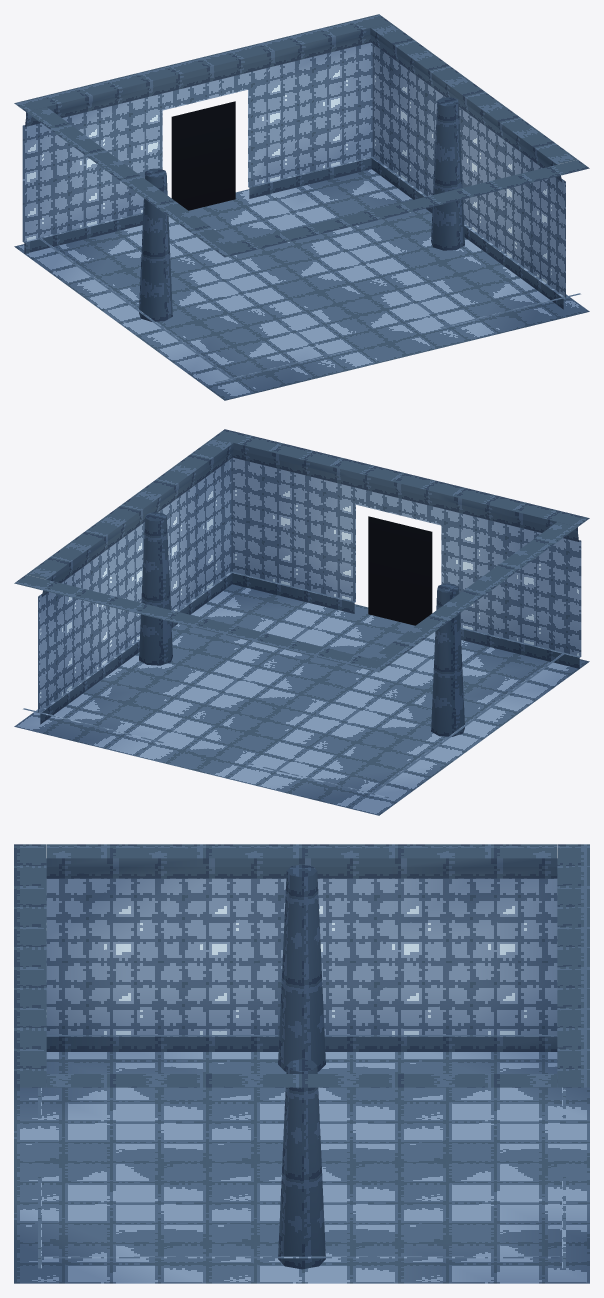
File: cyroom.lobby.glb
3 views of the same model, one above another, from view 1: azimuth 30°, elevation 25°; view 2: azimuth 150°, elevation 25°; view 3: azimuth 270°, elevation 25° (orthographic). The views are drawn at different scales.
Visible parts, largest first — view 1: kit_shell_walls, kit_shell_floor, kit_trim, kit_card_lights; view 2: kit_shell_walls, kit_shell_floor, kit_trim, kit_card_lights; view 3: kit_shell_walls, kit_shell_floor, kit_trim.
Boxes of the visible parts, <box> form: kit_shell_walls: <box>14,14,589,383</box>; kit_shell_floor: <box>14,169,589,400</box>; kit_trim: <box>139,97,464,321</box>; kit_card_lights: <box>171,101,235,210</box>; kit_shell_walls: <box>14,429,589,798</box>; kit_shell_floor: <box>14,584,589,815</box>; kit_trim: <box>139,512,464,736</box>; kit_card_lights: <box>368,516,432,625</box>; kit_shell_walls: <box>14,844,589,1268</box>; kit_shell_floor: <box>14,1052,589,1283</box>; kit_trim: <box>278,864,325,1269</box>.
Size of the model in its own units: 12 by 4.5 by 12.
Materials: 6 (6 with a texture image).
